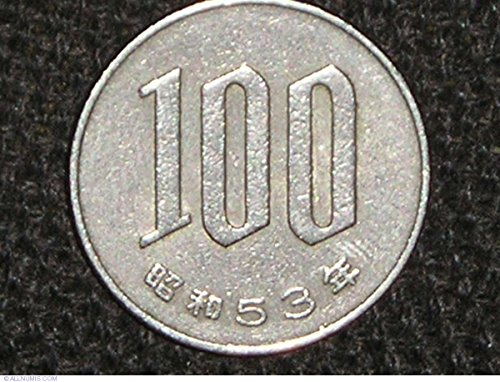100yen: (70, 1, 429, 355)
